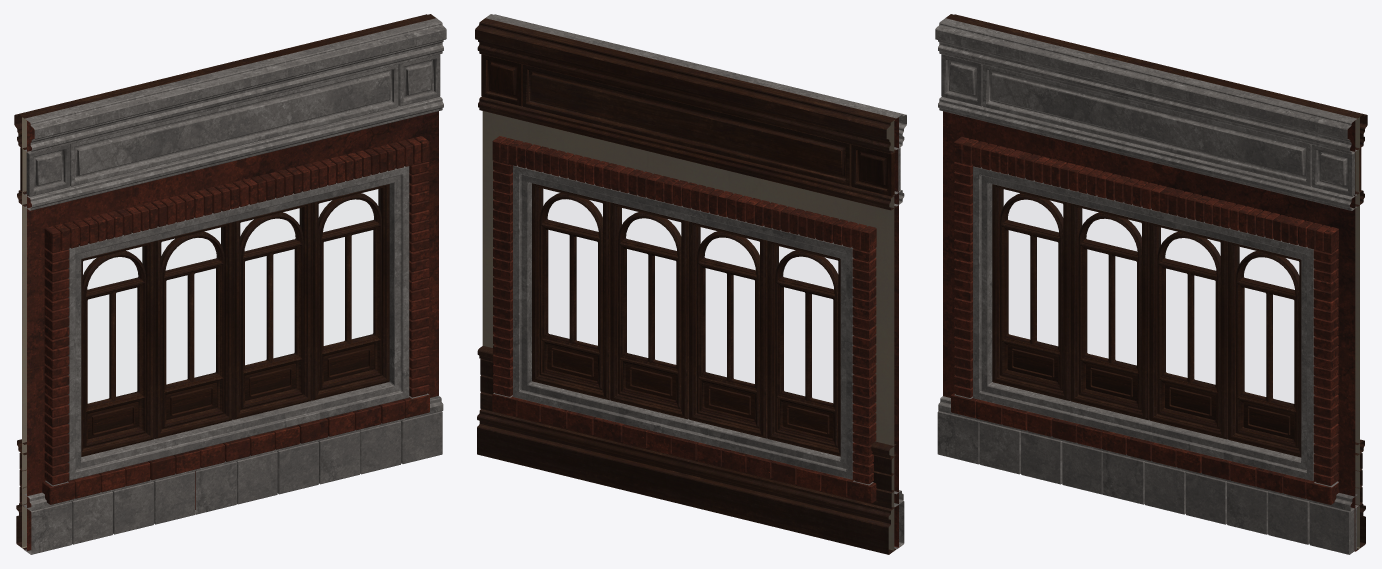
File: SK6 WINDOW 3.fbx
The picture shows the model from 3 angles, left to right: view 1: azimuth 30°, elevation 25°; view 2: azimuth 150°, elevation 25°; view 3: azimuth 330°, elevation 25°; orthographic projection.
Parts seen in each view (by area): view 1: SK6 WINDOW 3; view 2: SK6 WINDOW 3; view 3: SK6 WINDOW 3.
Boxes of the visible parts, x1,y1,x2,y2 form: SK6 WINDOW 3: (14,14,446,554); SK6 WINDOW 3: (475,14,906,554); SK6 WINDOW 3: (935,14,1367,554).
Bounding box in the file's own units: 400 × 400 × 34.17.
